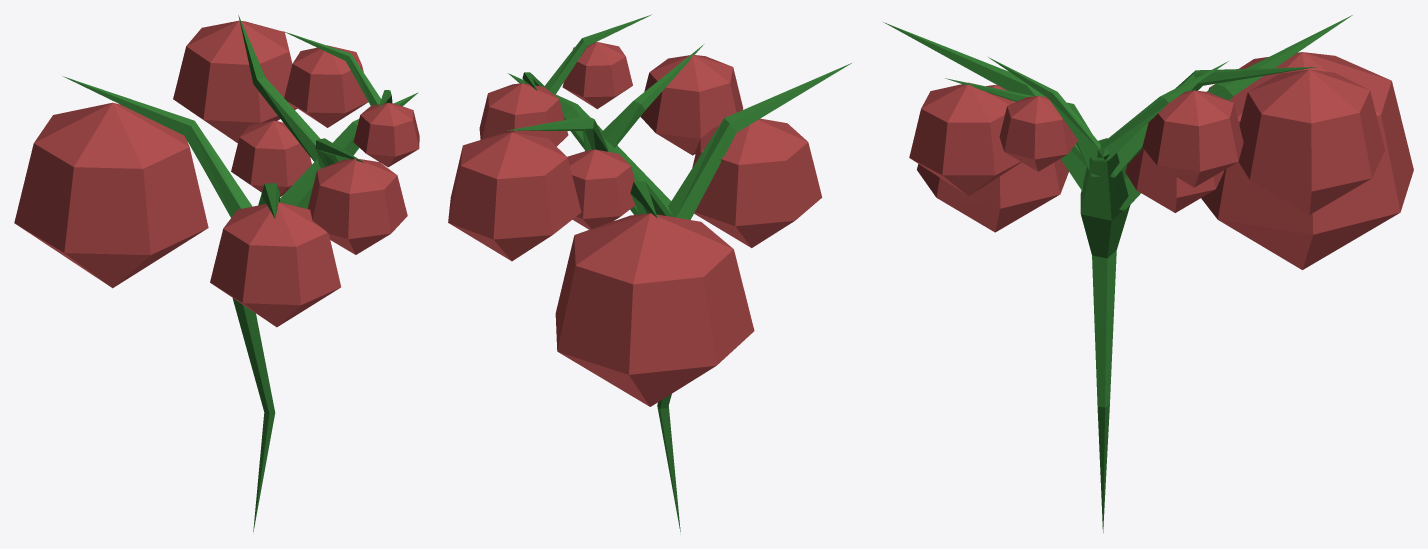
Rendered from Flower_08.FBX.
3 renders of one model, left to right at view 1: azimuth 30°, elevation 25°; view 2: azimuth 150°, elevation 25°; view 3: azimuth 270°, elevation 25°, orthographic. The views are drawn at different scales.
Parts seen in each view (by area): view 1: Flower_08; view 2: Flower_08; view 3: Flower_08.
Part boxes in pixels (left/top/right/bottom): Flower_08: left=14, top=15, right=419, bottom=531; Flower_08: left=448, top=14, right=851, bottom=534; Flower_08: left=883, top=15, right=1413, bottom=532.
Size of the model in its own units: 1.13 by 1.59 by 1.47.
